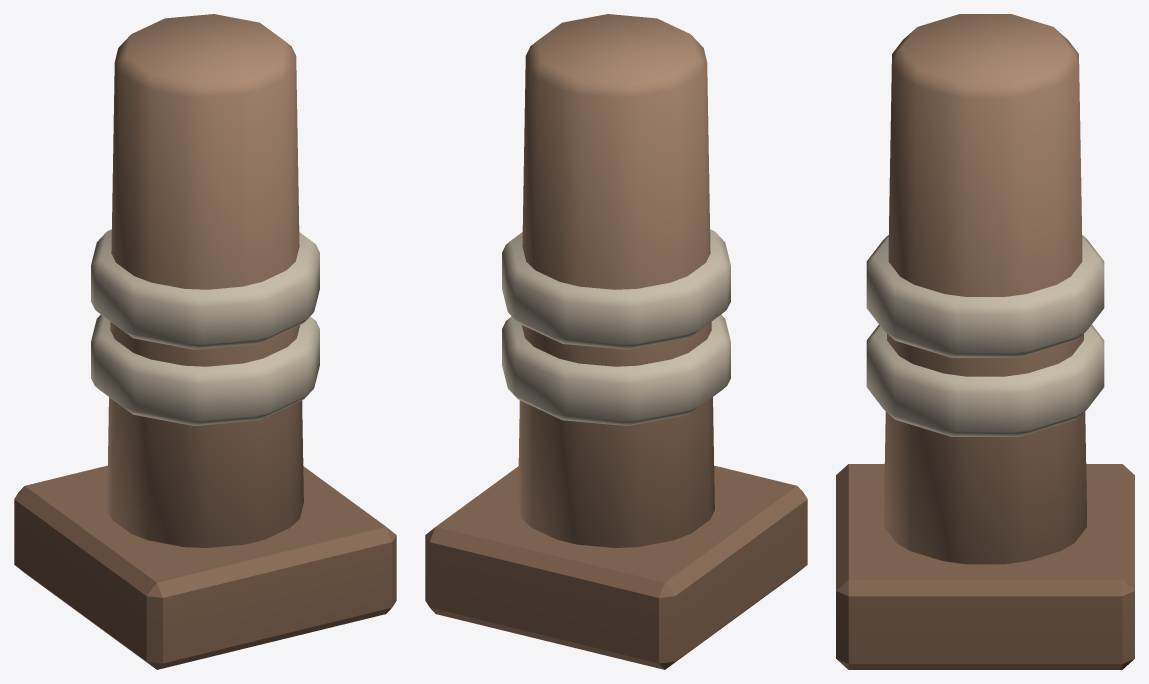
Rendered from shore-post.glb.
3 renders of one model, left to right at view 1: azimuth 30°, elevation 25°; view 2: azimuth 150°, elevation 25°; view 3: azimuth 270°, elevation 25°, orthographic. The views are drawn at different scales.
Visible parts, largest first — view 1: shore-post; view 2: shore-post; view 3: shore-post.
Part boxes in pixels (box(x1,y1,x2,y2)): shore-post: box(14, 14, 396, 669); shore-post: box(425, 14, 807, 669); shore-post: box(836, 14, 1134, 669).
Size of the model in its own units: 0.24 by 0.5 by 0.24.
